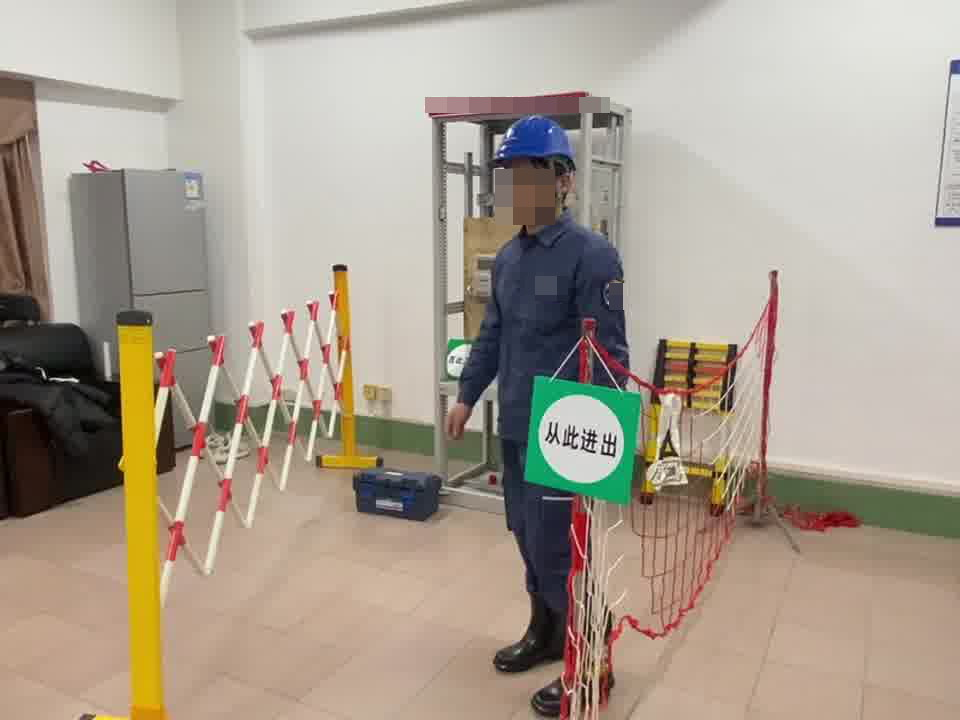downsuit: (486, 441, 578, 599)
halt: (488, 114, 582, 228)
hand: (447, 402, 475, 441)
inear: (547, 165, 574, 213)
intosign: (526, 374, 639, 505)
person: (444, 112, 648, 681)
shoe: (489, 603, 620, 707)
sleeve: (600, 279, 624, 311)
upsuit: (453, 220, 630, 409)
worksign: (443, 337, 477, 380)
